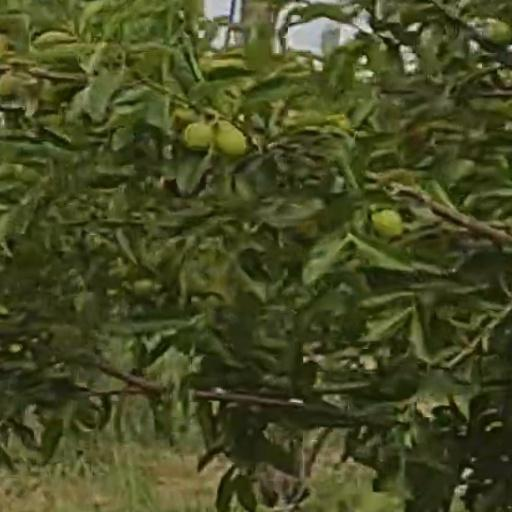acerola_verde: (214, 123, 245, 154), (182, 124, 211, 151)
